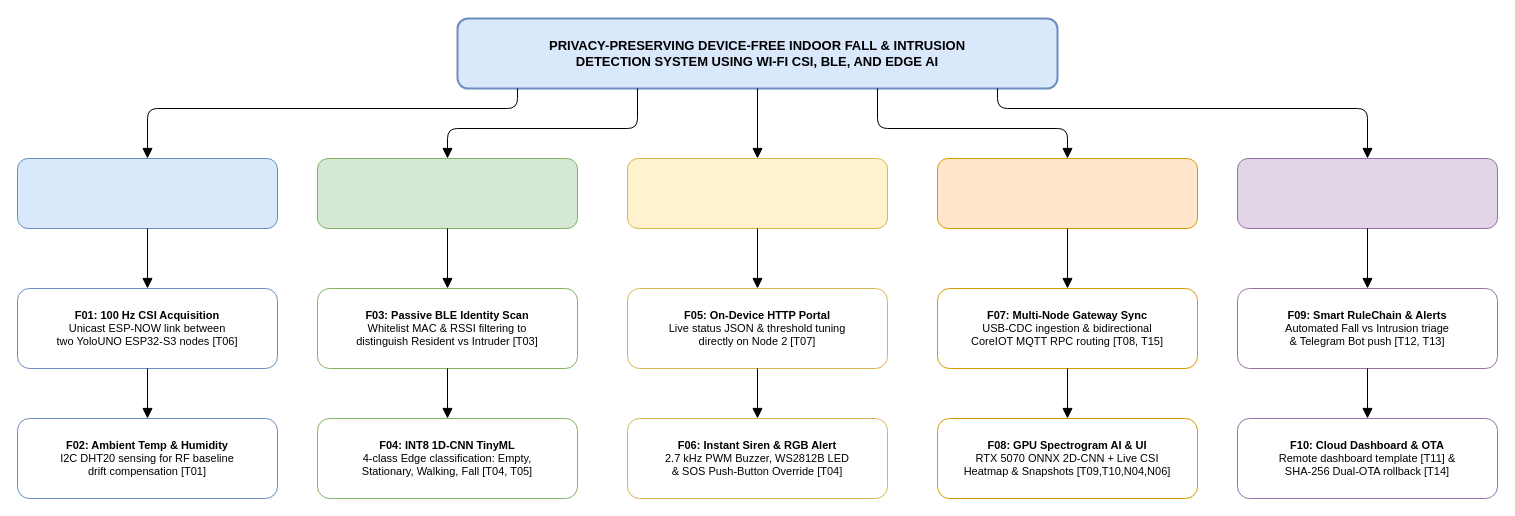
Image size: 1515x516. Some labels were removed from this diagram. Each missing label, with the centre of its shape:
"1. RF CSI & Env Sensing (PHY OFDM & I2C Telemetry)" goes at [147,193].
"2. BLE Identity & Edge TinyML (On-Device Intelligence)" goes at [447,193].
"3. Embedded Web & Local Alarm (Zero-Cloud Survival)" goes at [757,193].
"4. PC Local IoT Gateway (GPU AI, Sync & Streamlit UI)" goes at [1067,193].
"5. CoreIOT Cloud & DevOps (RuleChain, Telegram & OTA)" goes at [1367,193].
